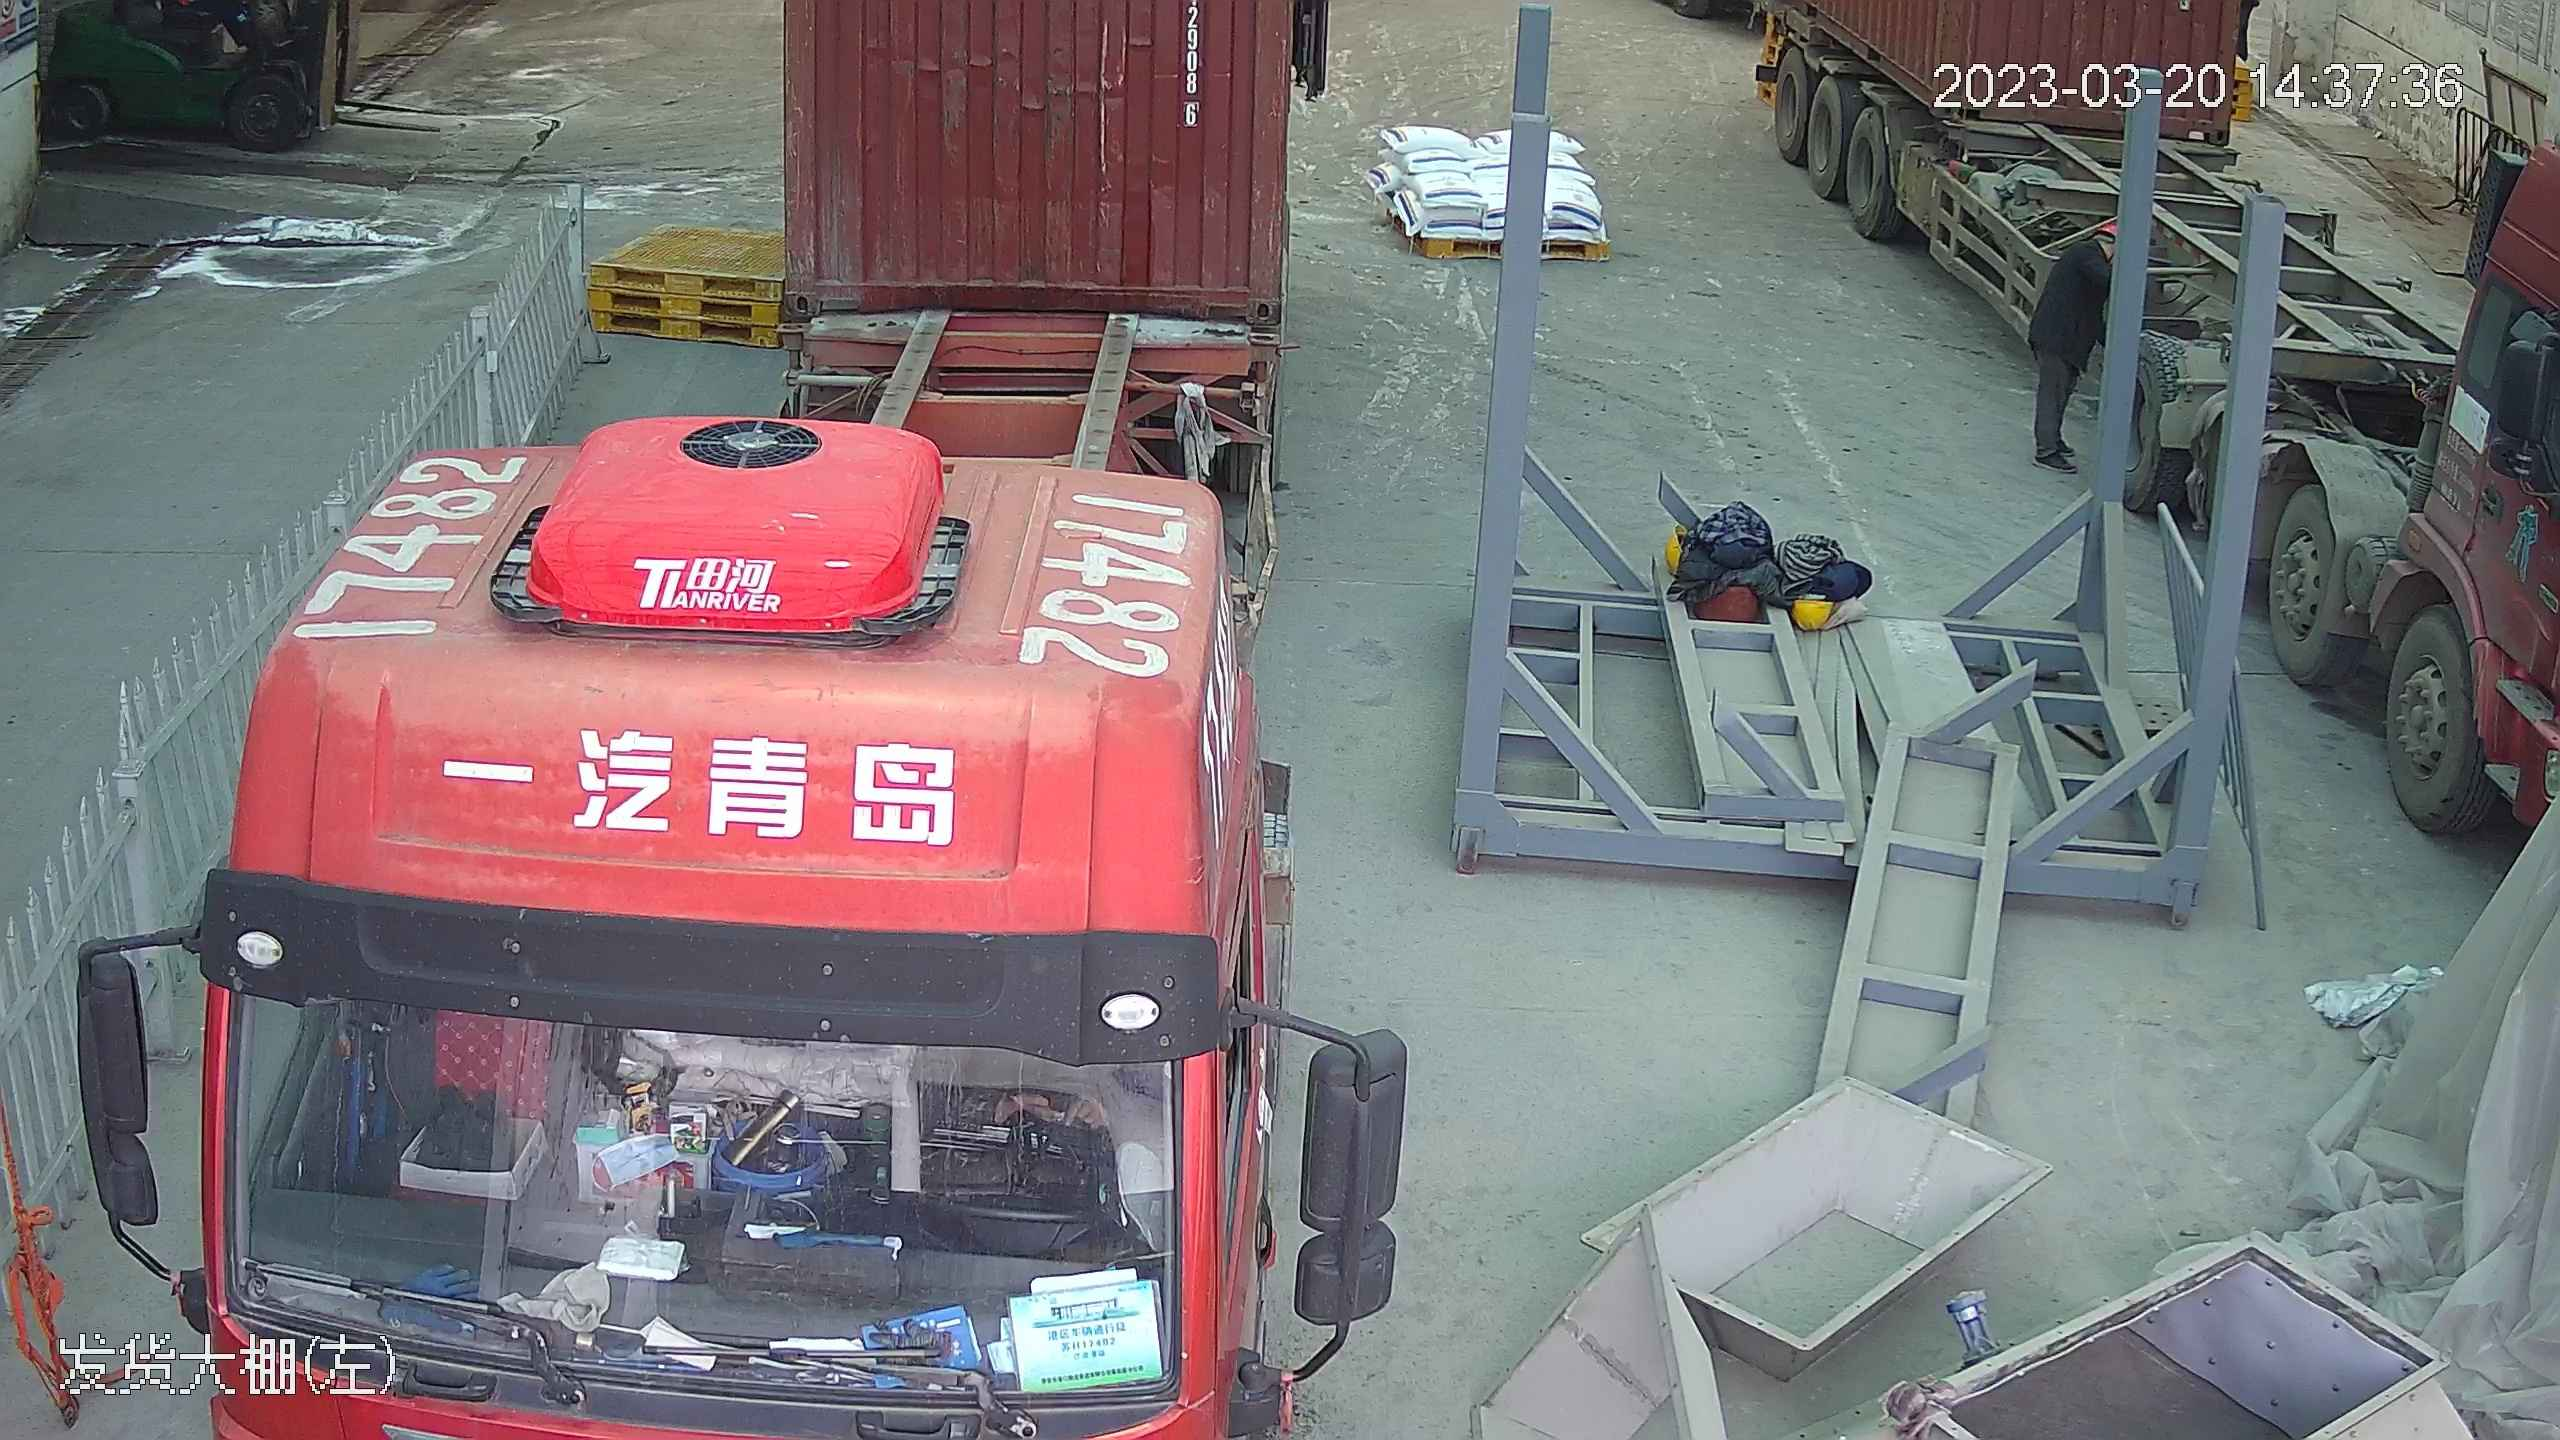people: (2024, 208, 2114, 475)
truck: (57, 1, 1303, 1440)
